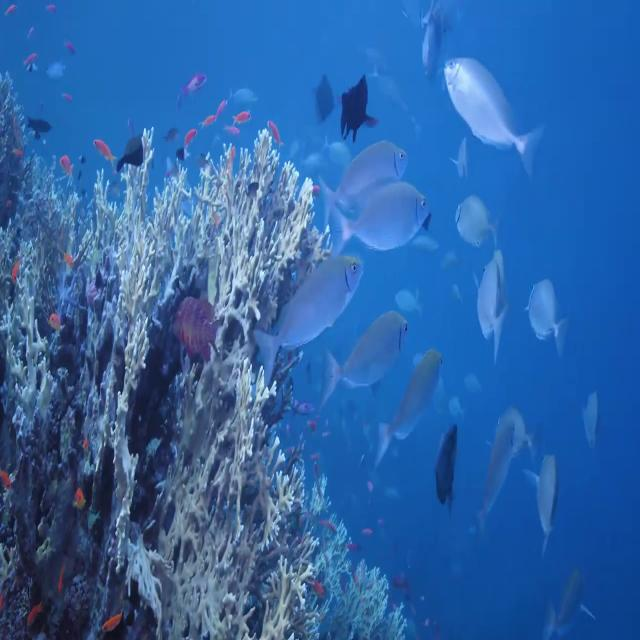fish: (438, 48, 544, 190), (253, 242, 365, 372), (314, 301, 418, 413), (461, 390, 531, 546), (371, 346, 451, 469), (328, 177, 432, 269), (314, 130, 410, 226), (513, 266, 578, 360), (472, 252, 511, 374), (177, 284, 228, 372), (524, 434, 566, 540), (413, 0, 457, 100), (544, 562, 600, 640), (450, 183, 505, 256), (108, 110, 158, 179), (427, 418, 464, 499), (337, 76, 382, 142), (576, 370, 608, 450), (312, 58, 343, 137), (174, 62, 212, 110), (20, 102, 56, 144), (42, 301, 69, 342), (89, 130, 113, 162), (269, 112, 287, 154), (230, 107, 256, 134), (58, 140, 76, 174)
